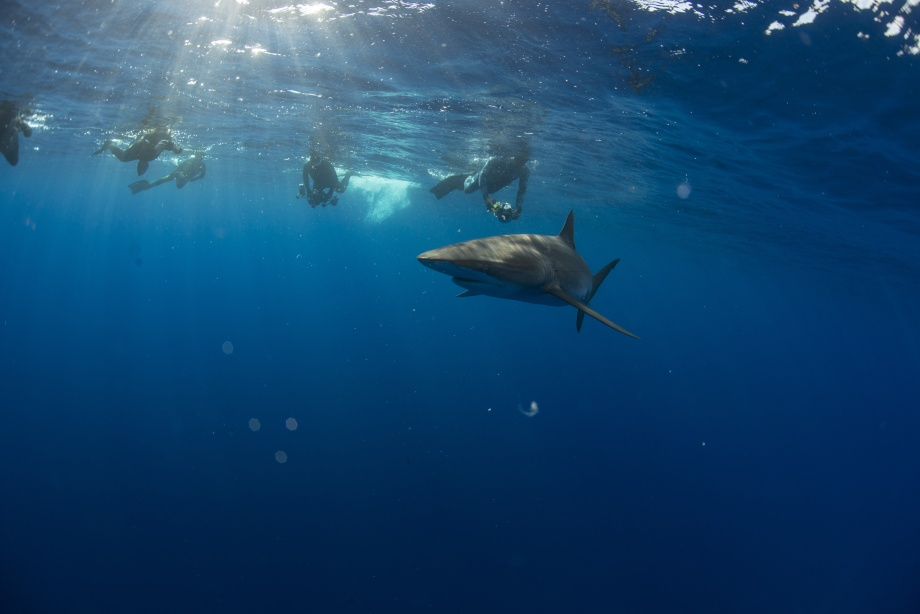Sedoso: (389, 207, 673, 367)
